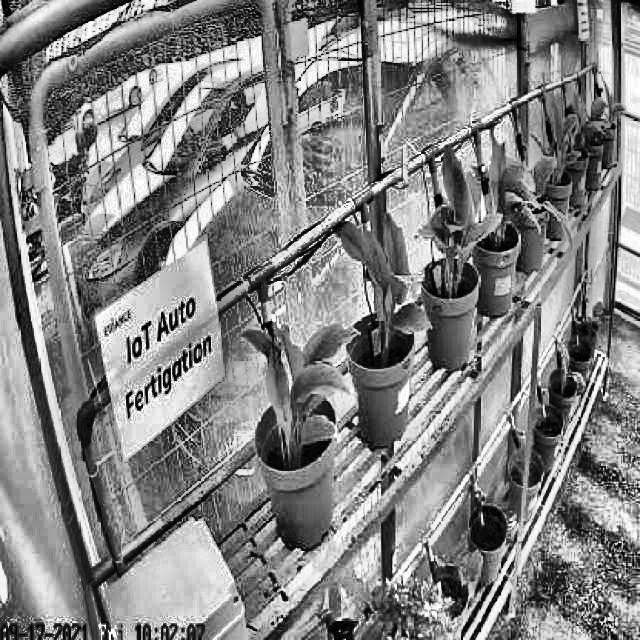plants: (239, 323, 359, 449), (336, 213, 432, 336), (420, 142, 494, 280), (486, 132, 540, 246)
